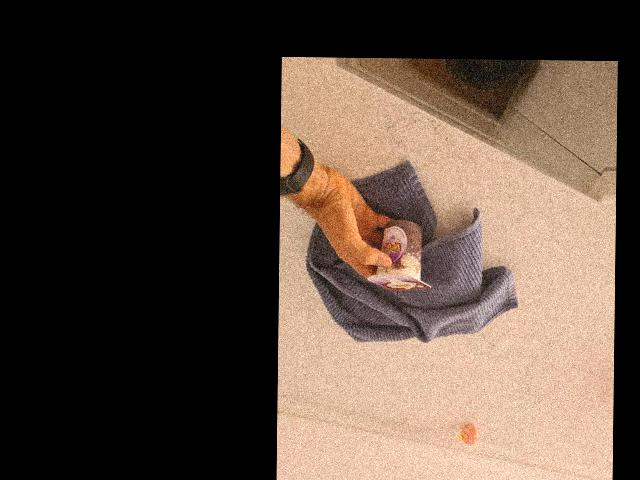milky: (370, 218, 430, 294)
